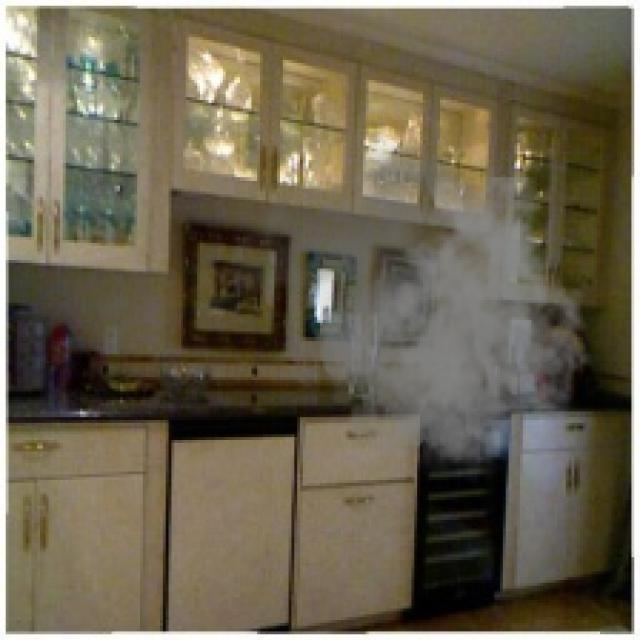Smoke: (220, 134, 594, 489)
